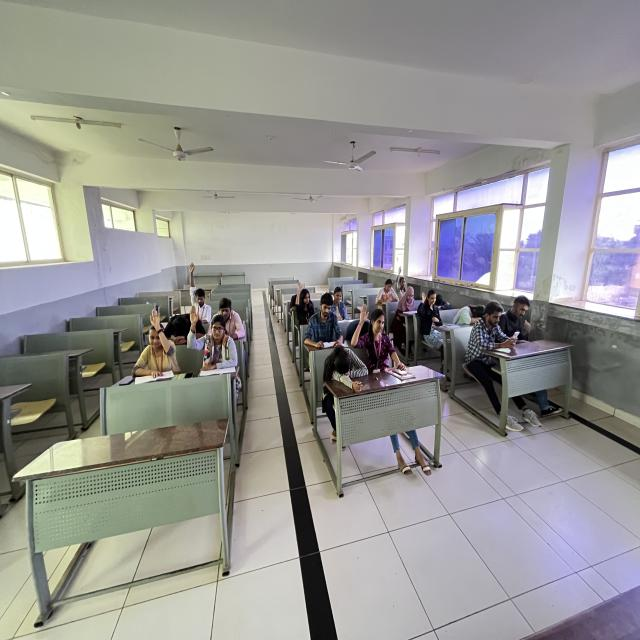Hand Rising: (184, 300, 237, 364), (134, 305, 178, 376), (351, 300, 387, 357), (185, 260, 216, 326), (294, 278, 313, 326)
Reading: (304, 290, 350, 350)
Sleeping: (319, 338, 369, 411)
Using Phone: (465, 299, 521, 370)
Writing: (330, 284, 354, 326)
